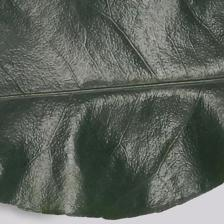healthy: (2, 4, 224, 184)
